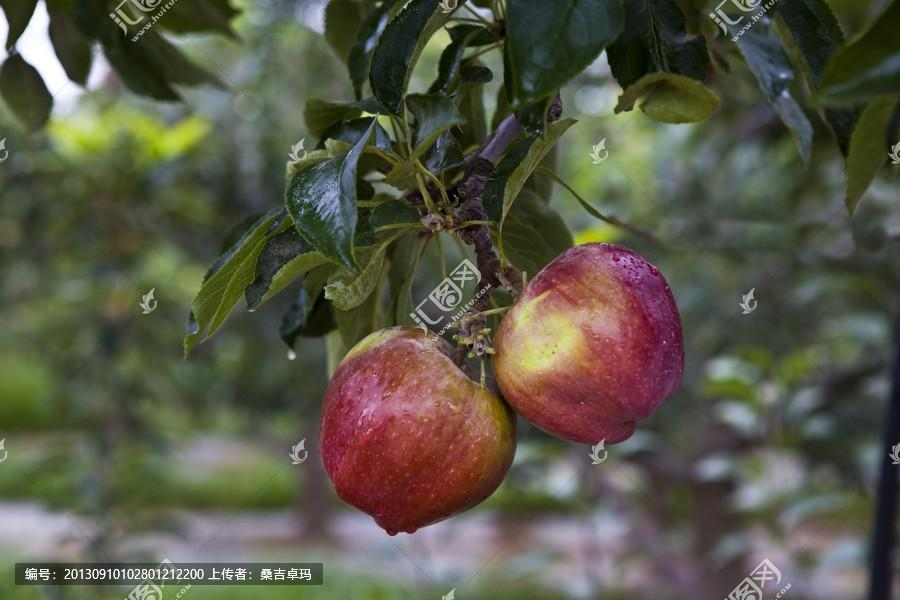apple: (319, 328, 516, 534), (491, 244, 686, 450)
